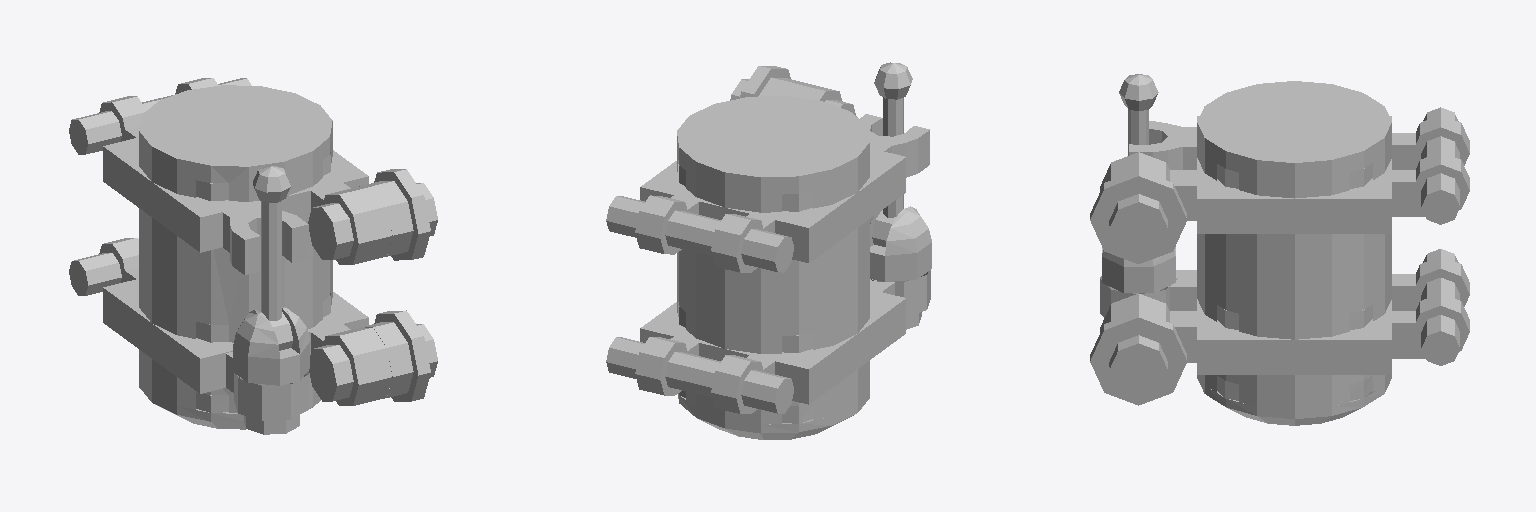
The model's file is price.obj.
3 views of the same model, side by side, from view 1: azimuth 30°, elevation 25°; view 2: azimuth 150°, elevation 25°; view 3: azimuth 270°, elevation 25° (orthographic).
Parts seen in each view (by area): view 1: Mesh_0111_Mesh_0111Mesh, Mesh_0110_Mesh_0110Mesh, Mesh_0112_Mesh_0112Mesh, Mesh_0113_Mesh_0113Mesh, Mesh_0115_Mesh_0115Mesh, Mesh_0114_Mesh_0114Mesh; view 2: Mesh_0110_Mesh_0110Mesh, Mesh_0111_Mesh_0111Mesh, Mesh_0112_Mesh_0112Mesh, Mesh_0113_Mesh_0113Mesh, Mesh_0114_Mesh_0114Mesh; view 3: Mesh_0110_Mesh_0110Mesh, Mesh_0111_Mesh_0111Mesh, Mesh_0115_Mesh_0115Mesh, Mesh_0114_Mesh_0114Mesh, Mesh_0112_Mesh_0112Mesh, Mesh_0113_Mesh_0113Mesh.
Boxes of the visible parts, x1,y1,x2,y2 form: Mesh_0111_Mesh_0111Mesh: [69, 78, 391, 434]; Mesh_0110_Mesh_0110Mesh: [139, 85, 332, 429]; Mesh_0112_Mesh_0112Mesh: [233, 307, 309, 385]; Mesh_0113_Mesh_0113Mesh: [253, 166, 292, 350]; Mesh_0115_Mesh_0115Mesh: [360, 310, 437, 401]; Mesh_0114_Mesh_0114Mesh: [359, 169, 437, 260]; Mesh_0110_Mesh_0110Mesh: [677, 96, 869, 439]; Mesh_0111_Mesh_0111Mesh: [606, 83, 930, 413]; Mesh_0112_Mesh_0112Mesh: [870, 206, 931, 281]; Mesh_0113_Mesh_0113Mesh: [872, 62, 912, 246]; Mesh_0114_Mesh_0114Mesh: [730, 66, 803, 100]; Mesh_0110_Mesh_0110Mesh: [1197, 81, 1391, 425]; Mesh_0111_Mesh_0111Mesh: [1100, 107, 1469, 374]; Mesh_0115_Mesh_0115Mesh: [1090, 310, 1186, 405]; Mesh_0114_Mesh_0114Mesh: [1090, 168, 1186, 263]; Mesh_0112_Mesh_0112Mesh: [1102, 246, 1175, 292]; Mesh_0113_Mesh_0113Mesh: [1119, 74, 1158, 155].
Size of the model in its own units: 0.1753 by 0.2671 by 0.2972.